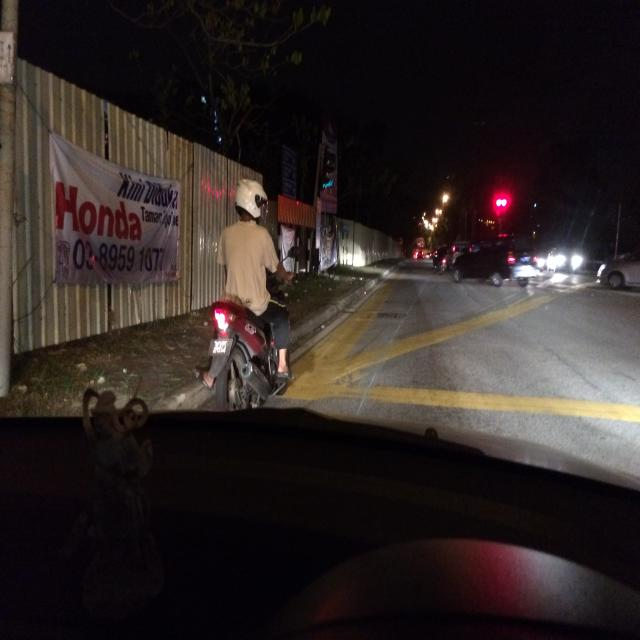Motorbike: (205, 239, 292, 404)
